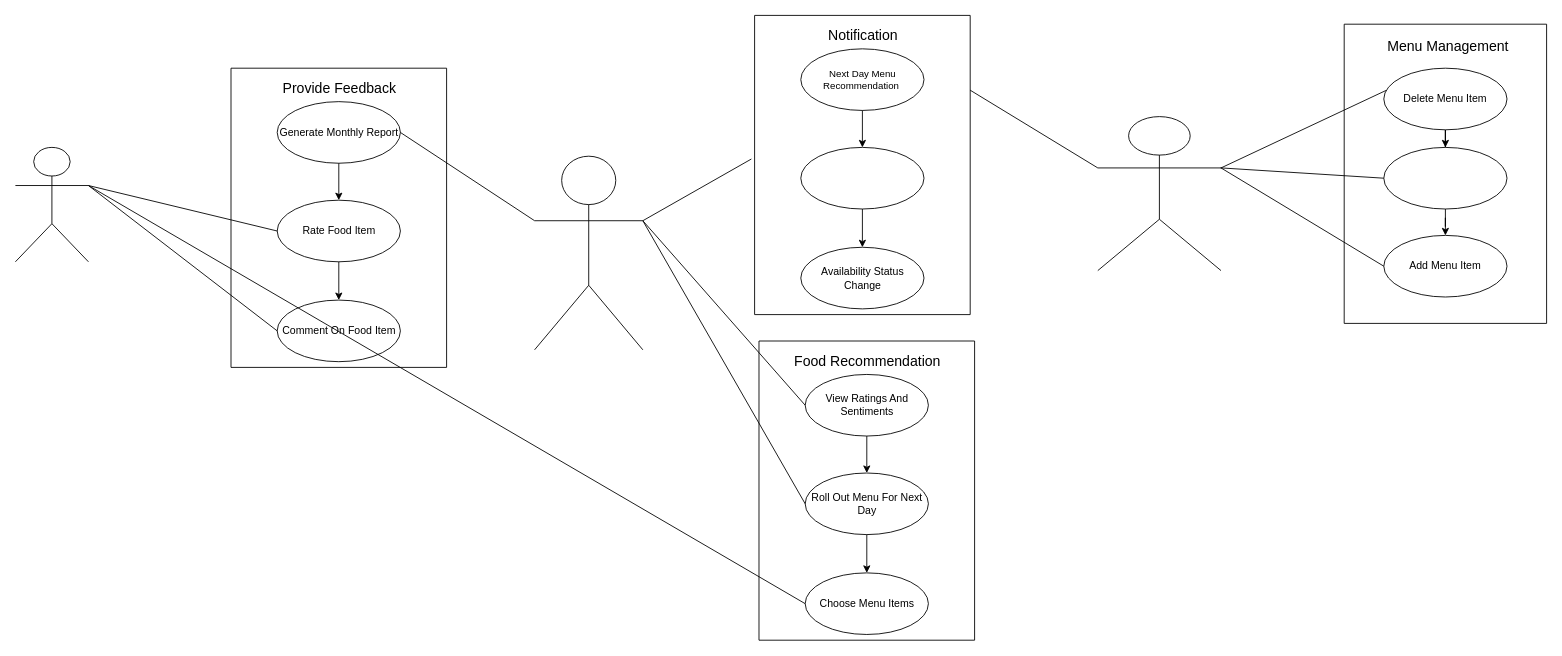
This 1562x656 diagram has some shape labels left out. The centre of each missing label's shape, as x and y in pixels:
"Admin" goes at [1159,193].
"Chef" goes at [588,252].
"Employee" goes at [51,204].
"New Food Item Added" goes at [862,178].
"Update Menu Item" goes at [1445,178].
